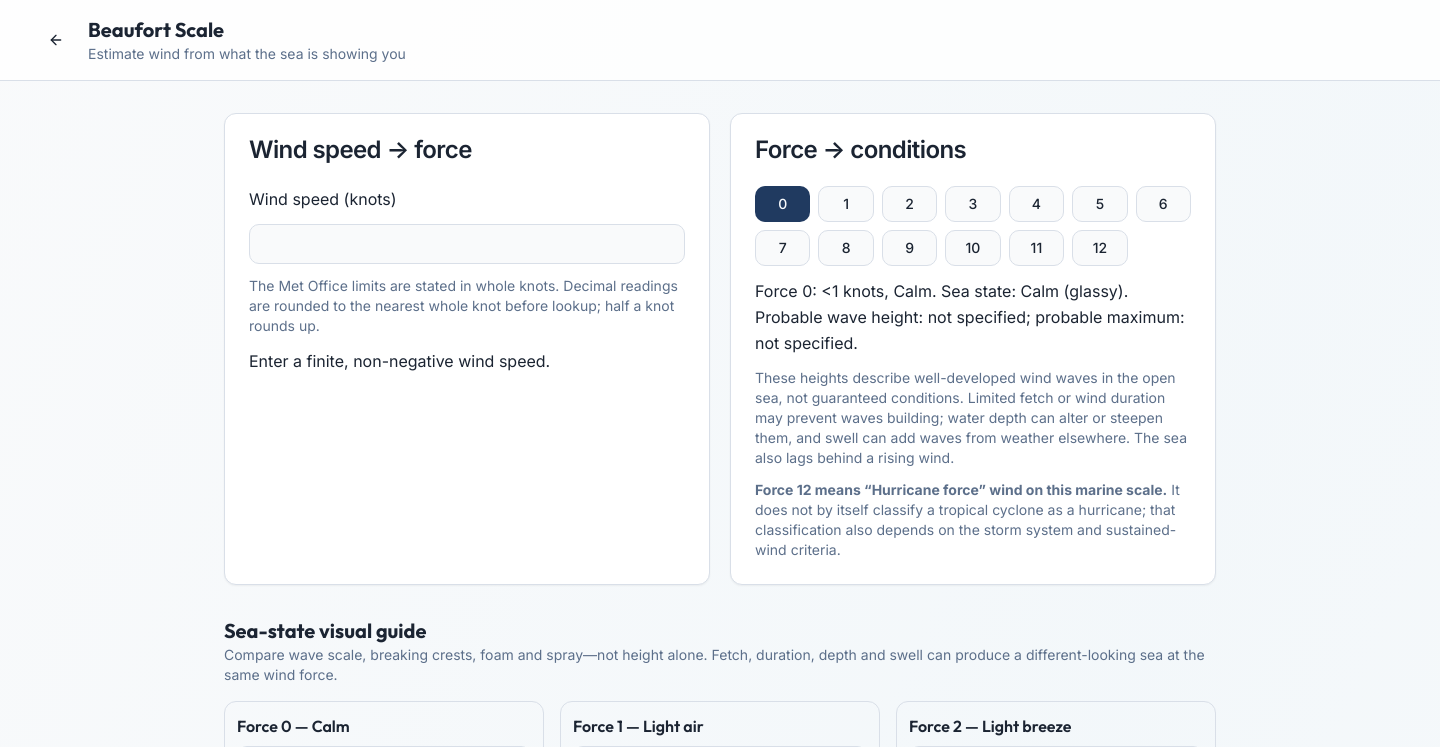
Test: BeaufortTheory authoritative marine reference › explains and exposes decimal normalization when it changes the force
In the number field labelled "Wind speed (knots)": (467, 244) [249, 224, 685, 264], type "10.75"
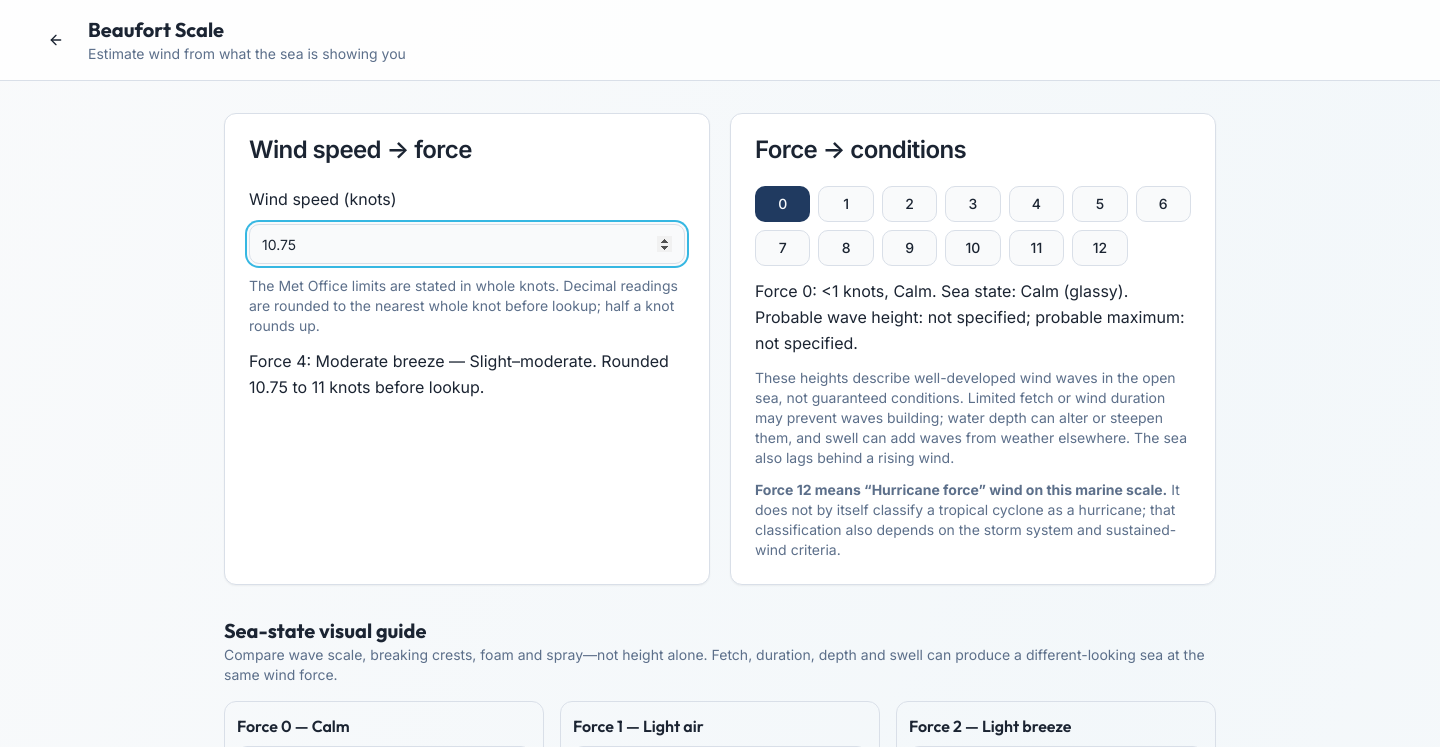
Expected: the text "Force 4: Moderate breeze" shows "Rounded 10.75 to 11 knots before lookup", [249, 351, 669, 397]
Replace the text in the number field labelled "Wind speed (knots)" with "3.49": (467, 244) [249, 224, 685, 264]
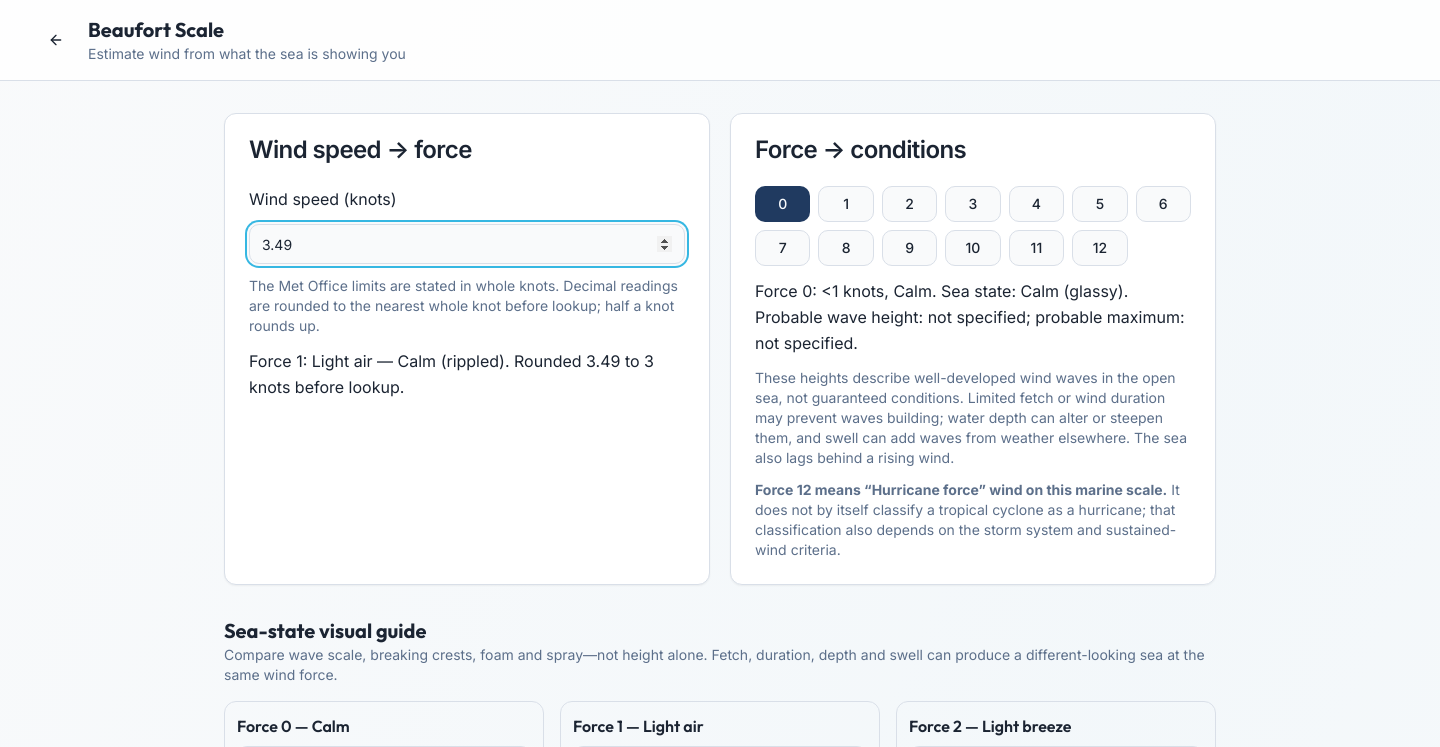
Expected: the text "Force 1: Light air" shows "Rounded 3.49 to 3 knots before lookup", [249, 351, 654, 397]
